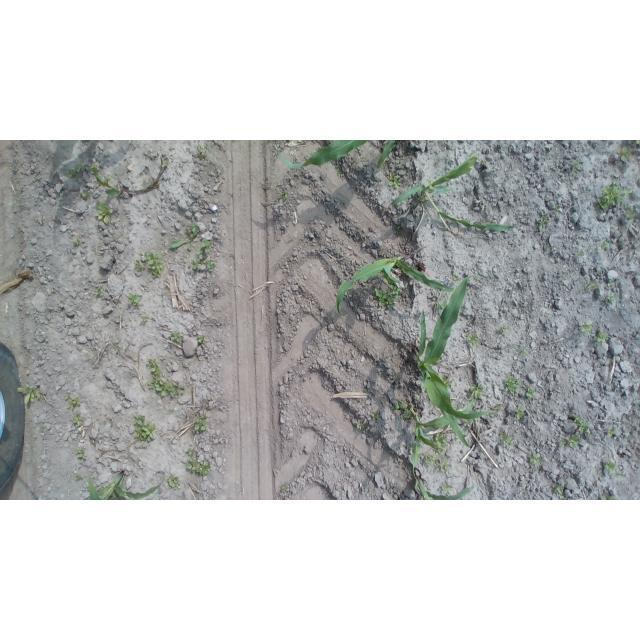Maize: (415, 275, 502, 449), (390, 154, 518, 234), (336, 254, 457, 317), (408, 398, 474, 500), (278, 140, 397, 169), (84, 470, 166, 500), (416, 473, 478, 500), (90, 166, 122, 198)
Weeds: (144, 358, 185, 398), (596, 179, 633, 209), (188, 238, 216, 272), (135, 249, 166, 279), (169, 222, 199, 251), (132, 412, 156, 445), (185, 449, 211, 478), (375, 284, 402, 309), (422, 452, 454, 473), (16, 382, 40, 404), (96, 200, 113, 225), (392, 399, 412, 419), (505, 375, 524, 396), (572, 413, 591, 434), (66, 163, 87, 181), (604, 460, 622, 478), (435, 432, 450, 453), (432, 297, 449, 315), (559, 434, 579, 448), (126, 292, 142, 309), (527, 451, 543, 468), (194, 414, 209, 432), (499, 433, 515, 449), (465, 332, 480, 349), (64, 395, 80, 410), (617, 147, 633, 162), (470, 384, 485, 399), (167, 475, 181, 491), (581, 320, 595, 336), (387, 172, 401, 188), (538, 214, 551, 231), (552, 483, 565, 500), (169, 330, 183, 345), (72, 413, 87, 427), (513, 404, 525, 420), (104, 171, 121, 181), (76, 448, 89, 461), (356, 420, 369, 433), (87, 162, 101, 174), (526, 385, 537, 399), (585, 281, 599, 292), (596, 331, 608, 343), (605, 293, 617, 304), (597, 241, 609, 252), (196, 144, 209, 154), (626, 207, 634, 221), (139, 315, 149, 325), (502, 325, 512, 335), (443, 484, 454, 493), (462, 419, 473, 428), (442, 380, 456, 387), (573, 159, 582, 169), (599, 495, 617, 500), (607, 428, 615, 439), (198, 335, 207, 344), (520, 348, 529, 357), (81, 189, 90, 198), (417, 196, 430, 202), (112, 344, 121, 352), (372, 412, 380, 421), (280, 191, 288, 200), (96, 287, 104, 296), (72, 236, 80, 245), (607, 279, 615, 287), (576, 248, 584, 256), (456, 400, 465, 407), (75, 475, 85, 481), (545, 243, 552, 250), (161, 159, 167, 167), (453, 275, 460, 281), (496, 403, 502, 409), (282, 485, 287, 492), (556, 206, 561, 211), (560, 275, 565, 280), (336, 168, 340, 173), (636, 140, 640, 144), (40, 428, 43, 433)
